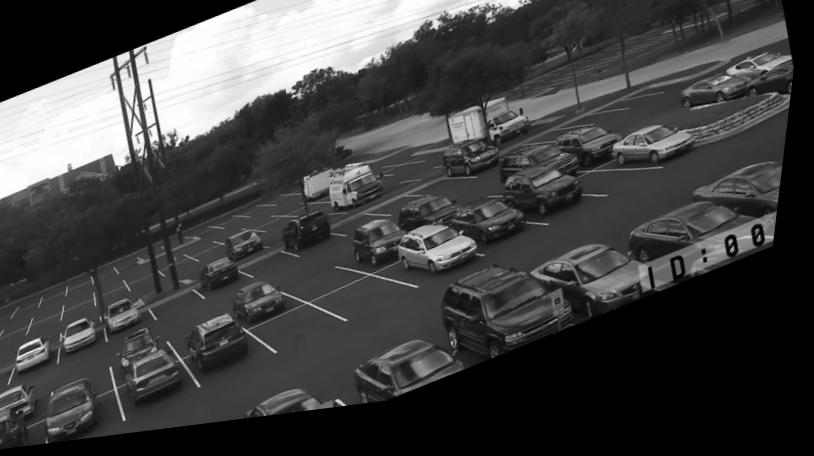empty: (331, 282, 427, 328), (259, 314, 342, 356), (584, 183, 666, 215), (291, 271, 359, 307), (157, 292, 216, 328), (65, 356, 116, 390), (179, 315, 223, 346), (375, 202, 429, 227), (251, 259, 303, 283), (420, 188, 478, 206), (341, 218, 386, 241), (596, 113, 652, 130), (70, 301, 105, 326), (132, 277, 174, 297), (167, 263, 210, 282), (38, 313, 72, 337), (4, 327, 38, 350), (157, 256, 195, 276), (103, 290, 138, 311), (569, 129, 619, 143), (102, 280, 135, 301), (469, 194, 512, 210), (264, 224, 304, 241), (532, 143, 579, 157), (379, 173, 426, 187), (40, 303, 71, 324), (188, 243, 224, 261), (72, 291, 102, 312), (0, 346, 27, 369), (249, 218, 284, 235), (131, 269, 164, 287), (97, 269, 128, 288), (199, 250, 232, 267), (0, 368, 24, 391), (120, 260, 150, 278), (217, 233, 251, 248), (270, 233, 296, 252), (36, 326, 65, 343), (277, 208, 312, 222), (76, 277, 99, 298), (295, 211, 334, 223), (12, 317, 41, 333), (192, 230, 226, 243), (0, 309, 22, 328), (24, 300, 47, 318), (51, 288, 73, 306), (193, 269, 216, 285), (222, 222, 254, 232), (271, 202, 303, 212), (248, 212, 277, 223), (0, 328, 12, 338), (0, 339, 6, 350)
occupied: (444, 278, 592, 374), (536, 260, 682, 329), (638, 222, 783, 285), (350, 346, 484, 413), (236, 383, 359, 428), (399, 234, 487, 293), (701, 180, 789, 234), (192, 320, 266, 379), (457, 209, 539, 259), (509, 180, 587, 232), (132, 349, 196, 410), (55, 380, 109, 446), (619, 143, 702, 182), (242, 288, 300, 333), (449, 148, 507, 192), (336, 174, 390, 220), (686, 91, 754, 127), (563, 142, 624, 182), (360, 231, 413, 277), (508, 159, 578, 192), (289, 219, 341, 261), (404, 207, 465, 241), (752, 82, 798, 117), (0, 411, 40, 451), (126, 334, 164, 373), (207, 263, 248, 298), (24, 338, 59, 376), (4, 386, 45, 417), (114, 304, 150, 337), (233, 238, 270, 269), (72, 322, 105, 356)
